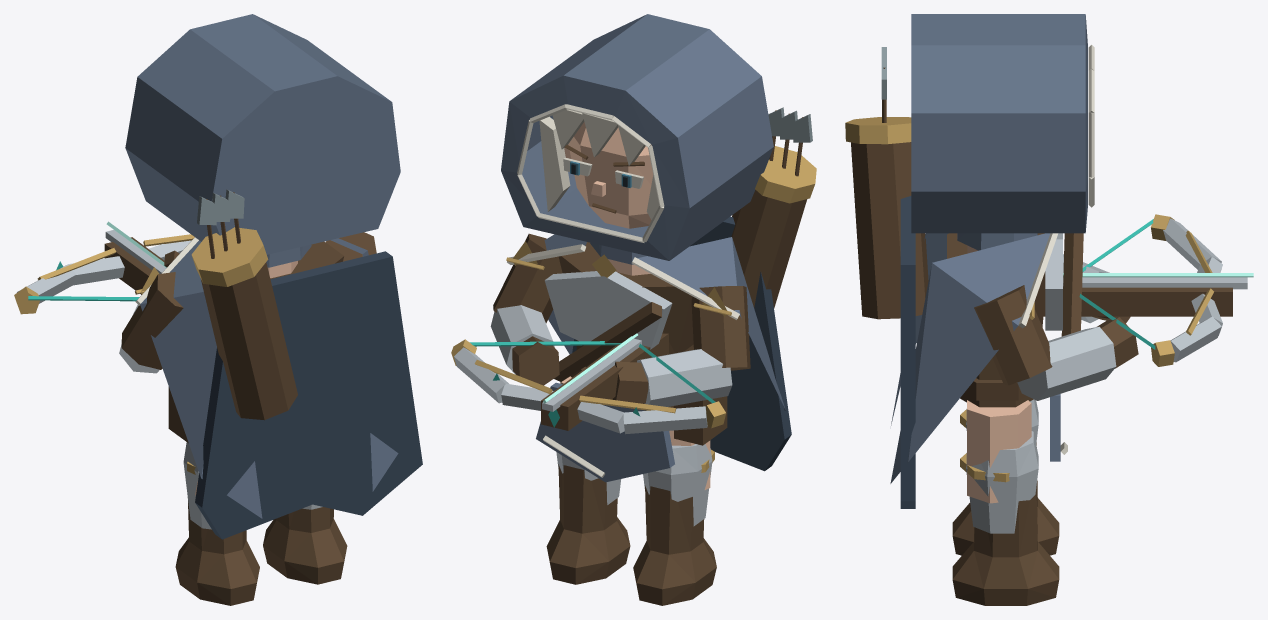
Rendered from Vesper.fbx.
3 renders of one model, left to right at view 1: azimuth 30°, elevation 25°; view 2: azimuth 150°, elevation 25°; view 3: azimuth 270°, elevation 25°, orthographic. The views are drawn at different scales.
Parts seen in each view (by area): view 1: Body, Head, ArmR, LegR, LegL, ArmL; view 2: Head, Body, ArmR, LegR, LegL, ArmL; view 3: Head, Body, LegL, ArmR, ArmL, LegR.
Boxes of the visible parts, x1,y1,x2,y2 form: Body: (135,189,422,539); Head: (125,14,400,254); ArmR: (14,221,194,373); LegR: (175,442,259,605); LegL: (263,504,347,584); ArmL: (326,232,376,261); Head: (501,14,773,260); Body: (506,107,816,482); ArmR: (451,286,750,434); LegR: (633,430,716,605); LegL: (546,376,630,584); ArmL: (490,233,562,385); Head: (911,14,1094,233); Body: (845,47,1083,508); LegL: (952,400,1059,605); ArmR: (1043,214,1253,366); ArmL: (974,285,1138,400); LegR: (952,399,1059,555).
Size of the model in its own units: 0.6844 by 1.15 by 0.7885.
Materials: 1 (1 with a texture image).
